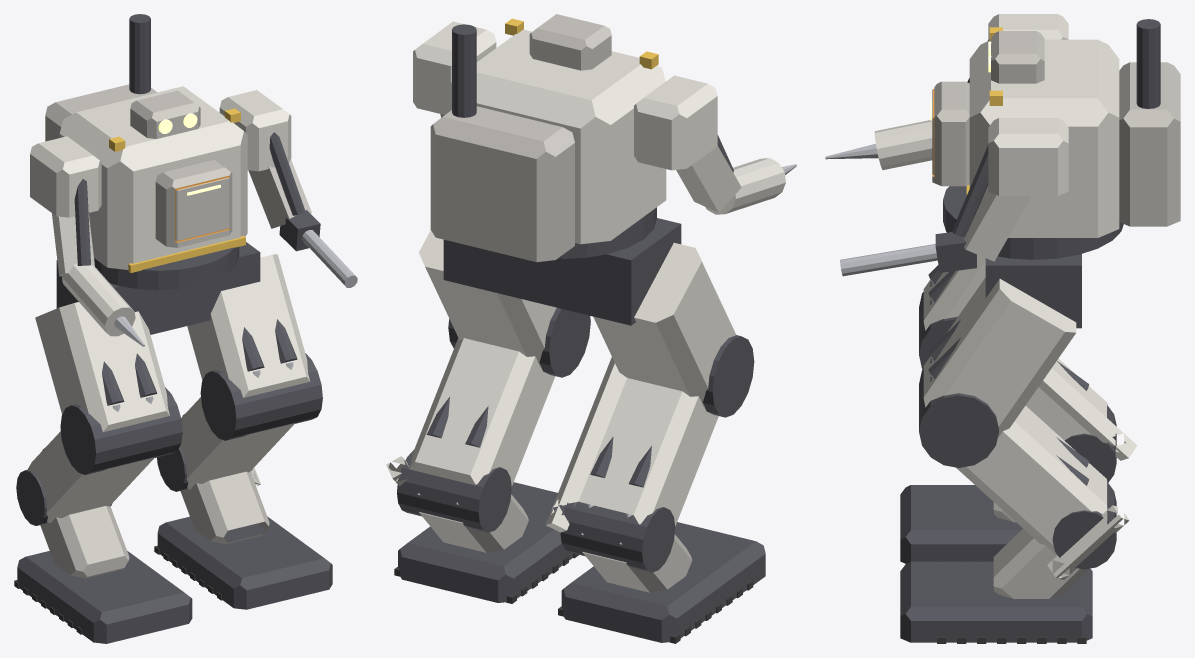
File: foreman.glb
3 views of the same model, side by side, from view 1: azimuth 30°, elevation 25°; view 2: azimuth 150°, elevation 25°; view 3: azimuth 270°, elevation 25° (orthographic). The views are drawn at different scales.
Parts seen in each view (by area): view 1: torso, foot1, thigh-1, foot-1, thigh1, prow, knee-1, knee1, hips, shin-1, meta-1, shin1 (+21 smaller); view 2: torso, engine, shin-1, shin1, thigh-1, hips, foot-1, foot1, thigh1, shoulder-1, hock-1, hock1 (+10 smaller); view 3: torso, thigh1, foot1, shin1, engine, foot-1, shoulder1, knee1, shin-1, hips, meta1, prow (+13 smaller).
Boxes of the visible parts, x1,y1,x2,y2 form: torso: [59, 86, 247, 269]; foot1: [157, 516, 332, 609]; thigh-1: [35, 302, 169, 432]; foot-1: [17, 551, 192, 643]; thigh1: [187, 254, 310, 397]; prow: [155, 160, 232, 247]; knee-1: [60, 387, 182, 474]; knee1: [200, 353, 322, 440]; hips: [56, 242, 260, 334]; shin-1: [27, 431, 154, 522]; meta-1: [40, 506, 129, 578]; shin1: [180, 397, 294, 489]; torso: [447, 29, 666, 244]; engine: [430, 106, 574, 262]; shin-1: [545, 357, 718, 532]; shin1: [386, 338, 555, 486]; thigh-1: [593, 242, 736, 406]; hips: [443, 218, 681, 325]; foot-1: [561, 522, 765, 642]; foot1: [398, 482, 573, 602]; thigh1: [419, 230, 556, 367]; shoulder-1: [634, 75, 717, 170]; hock-1: [560, 501, 675, 572]; hock1: [397, 450, 511, 532]; torso: [969, 39, 1119, 237]; thigh1: [923, 277, 1076, 437]; foot1: [900, 561, 1092, 642]; shin1: [956, 405, 1129, 579]; engine: [1119, 62, 1180, 226]; foot-1: [900, 485, 1022, 563]; shoulder1: [988, 118, 1068, 196]; knee1: [919, 368, 998, 467]; shin-1: [1025, 358, 1137, 460]; hips: [985, 254, 1081, 328]; meta1: [993, 528, 1089, 598]; prow: [932, 81, 969, 186].
Size of the model in its own units: 11.97 by 23.62 by 13.31.
